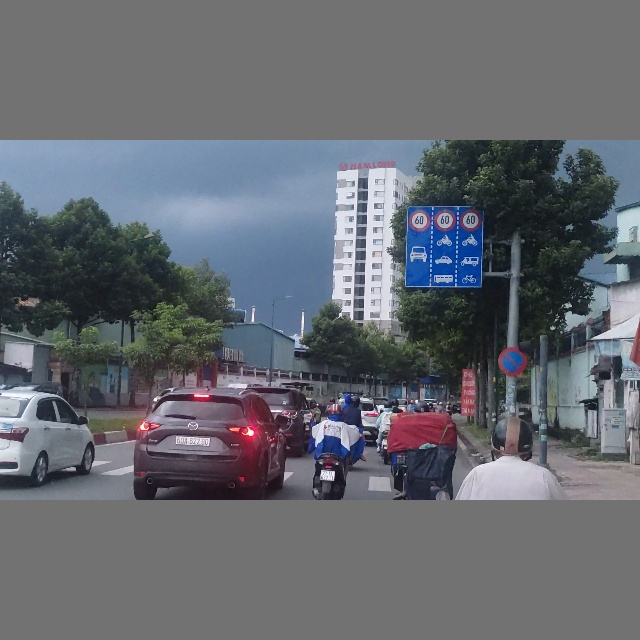P.127*60: (409, 210, 430, 232), (434, 209, 455, 231), (460, 209, 481, 231)
P.131a: (498, 347, 528, 375)
R.415a: (406, 233, 482, 287)
